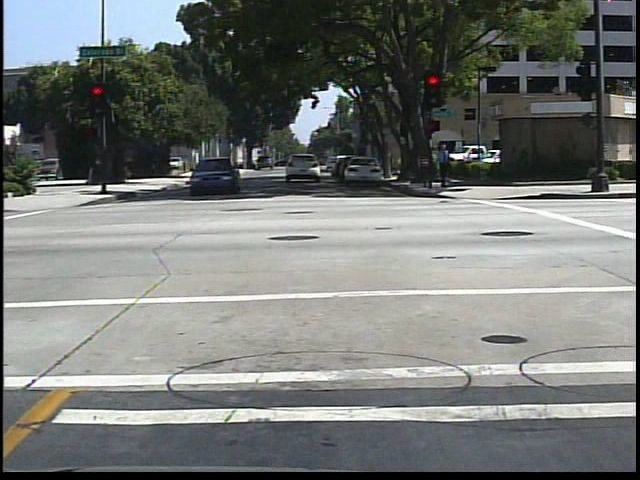person: (431, 138, 456, 191)
